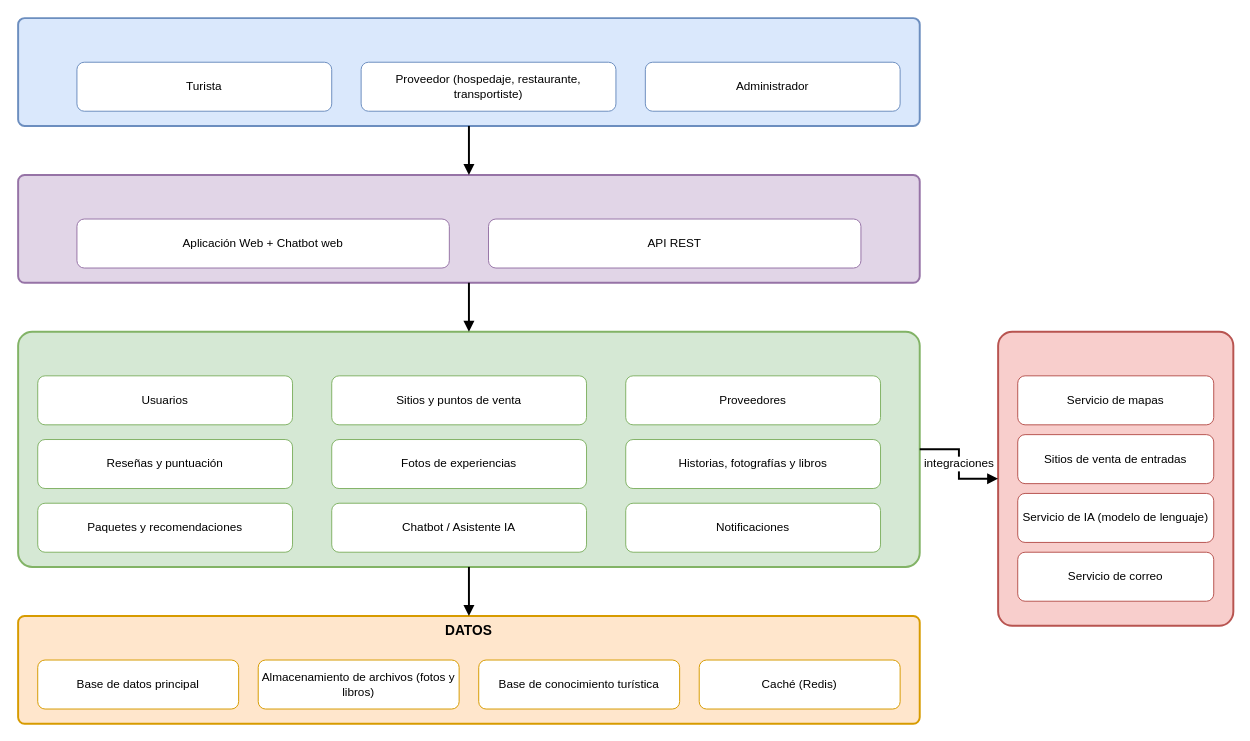
The diagram is 1250 pixels wide and 741 high, and some of its shapes have lost their labels. The box of each missing label's shape, as (x1, y1, x2, y2) in pixels:
ACTORES: (17, 17, 920, 126)
LÓGICA DE NEGOCIO: (17, 330, 920, 567)
PRESENTACIÓN: (17, 173, 920, 283)
SISTEMAS EXTERNOS: (997, 330, 1234, 626)
